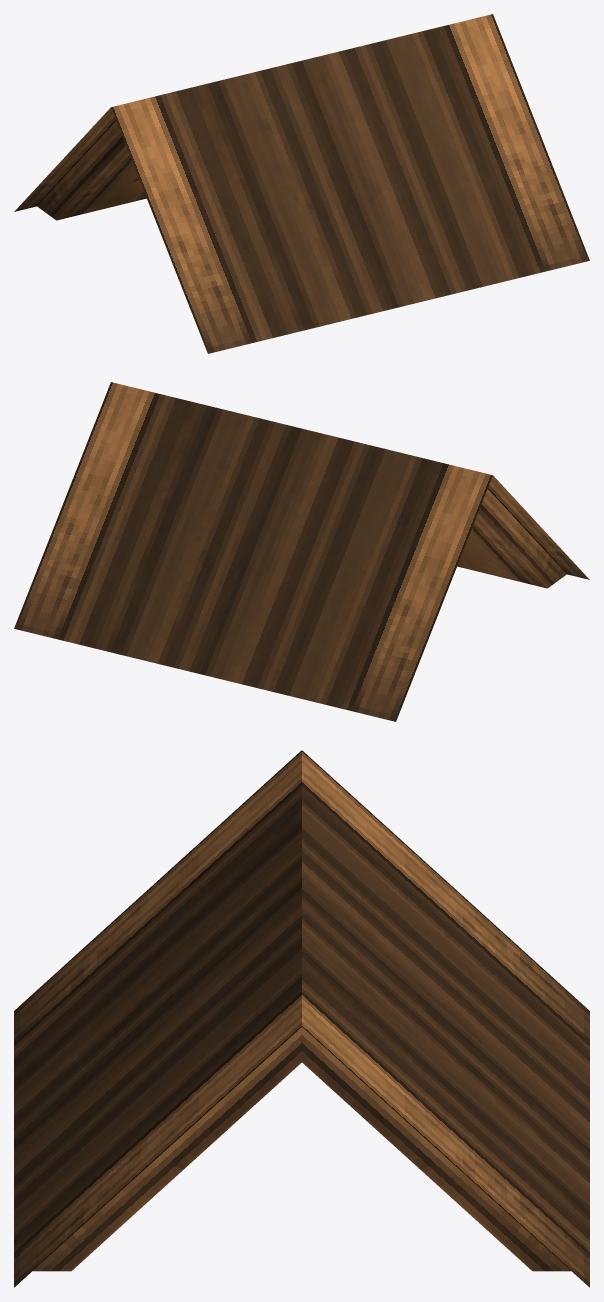
3 views of the same model, one above another, from view 1: azimuth 30°, elevation 25°; view 2: azimuth 150°, elevation 25°; view 3: azimuth 270°, elevation 25° (orthographic). The views are drawn at different scales.
Parts seen in each view (by area): view 1: roof-metal-type-b; view 2: roof-metal-type-b; view 3: roof-metal-type-b.
Part boxes in pixels (box(x1,y1,x2,y2)): roof-metal-type-b: box(14, 14, 589, 353); roof-metal-type-b: box(14, 382, 589, 721); roof-metal-type-b: box(14, 750, 589, 1287).
Bounding box in the file's own units: 1.14 × 0.5 × 1.
3 materials, 3 textured.
